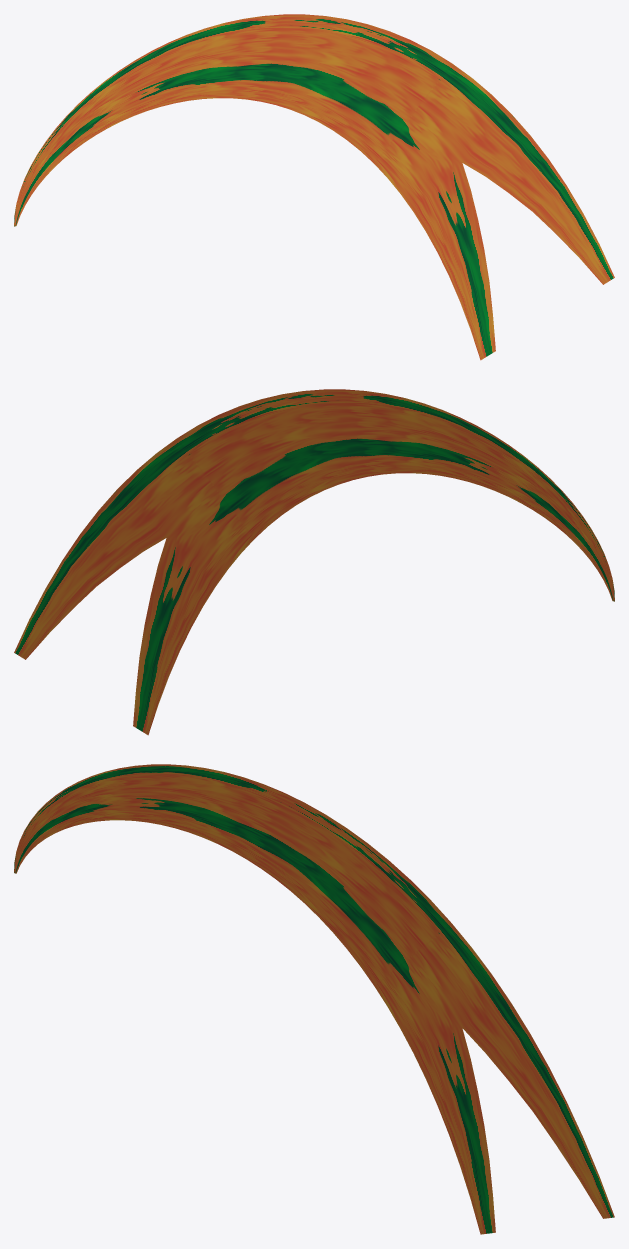
Rendered from p_trashbot_loop_sprinkler03_pose0.fbx.
3 views of the same model, one above another, from view 1: azimuth 30°, elevation 25°; view 2: azimuth 150°, elevation 25°; view 3: azimuth 330°, elevation 25° (orthographic).
Parts seen in each view (by area): view 1: p_sprinkler_plane_03_pose1; view 2: p_sprinkler_plane_03_pose1; view 3: p_sprinkler_plane_03_pose1.
Part boxes in pixels (bbox=[...]): p_sprinkler_plane_03_pose1: bbox=[14, 14, 614, 360]; p_sprinkler_plane_03_pose1: bbox=[14, 389, 614, 735]; p_sprinkler_plane_03_pose1: bbox=[14, 764, 614, 1234].
Size of the model in its own units: 101 by 64.14 by 2.38e-06.
